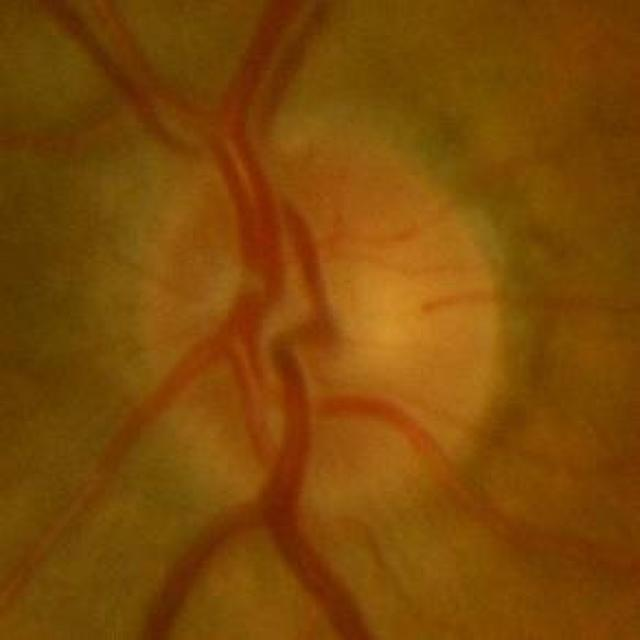OC: (280, 260, 421, 384)
OD: (128, 125, 506, 508)
